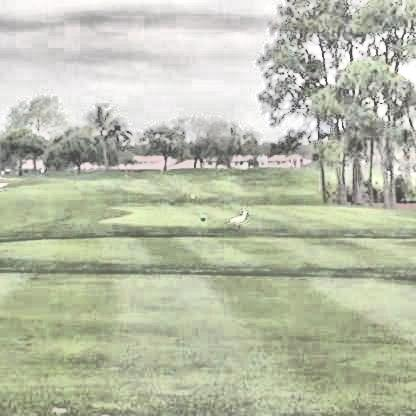golfball: (98, 99, 105, 106)
